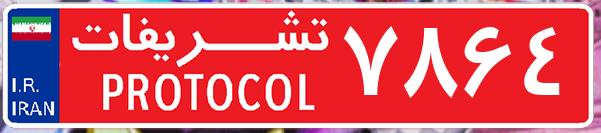4: (520, 20, 580, 115)
6: (460, 20, 520, 115)
7: (340, 20, 400, 115)
8: (400, 20, 460, 115)
تشریفات: (60, 8, 340, 125)
